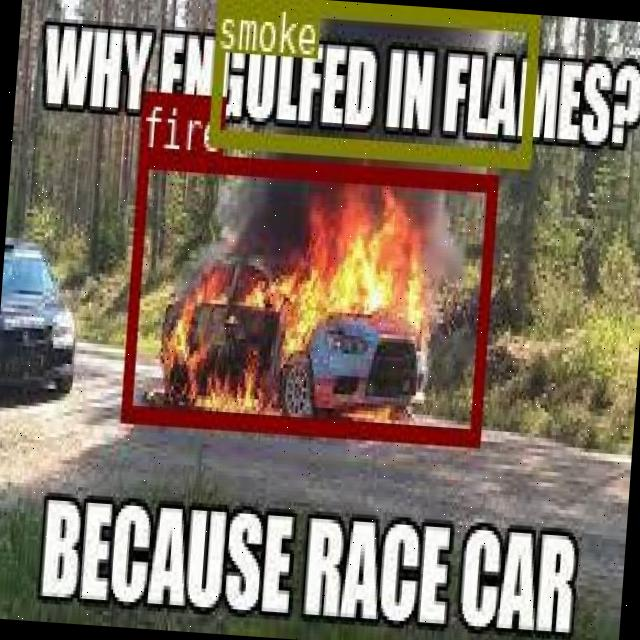fire: (118, 148, 496, 441)
smoke: (207, 0, 538, 162)
